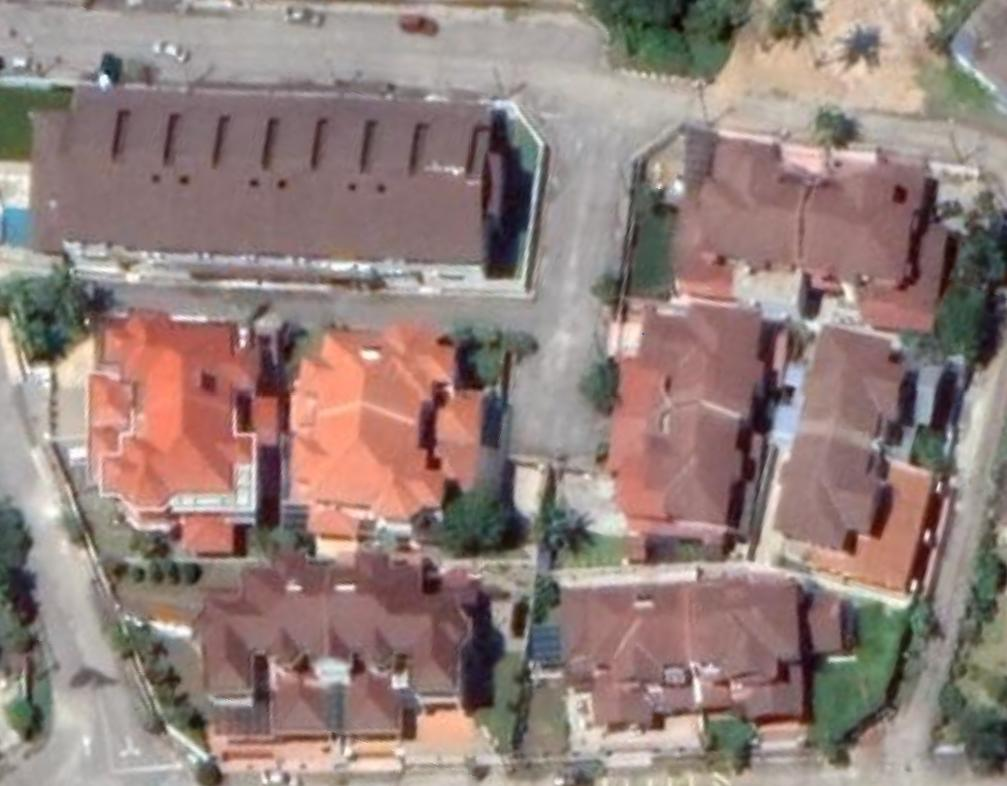building: (760, 418, 962, 608), (633, 120, 824, 312), (330, 542, 489, 753), (178, 544, 339, 747), (598, 392, 780, 568), (806, 145, 966, 345), (81, 301, 289, 451), (81, 402, 265, 561), (524, 575, 705, 734), (282, 410, 487, 547), (695, 568, 865, 732), (285, 315, 491, 443), (605, 296, 806, 424), (795, 317, 977, 452), (400, 86, 516, 278), (24, 69, 118, 263), (246, 74, 322, 268), (304, 78, 375, 270), (104, 74, 174, 261), (350, 82, 419, 271), (204, 78, 268, 267), (159, 77, 222, 265)
